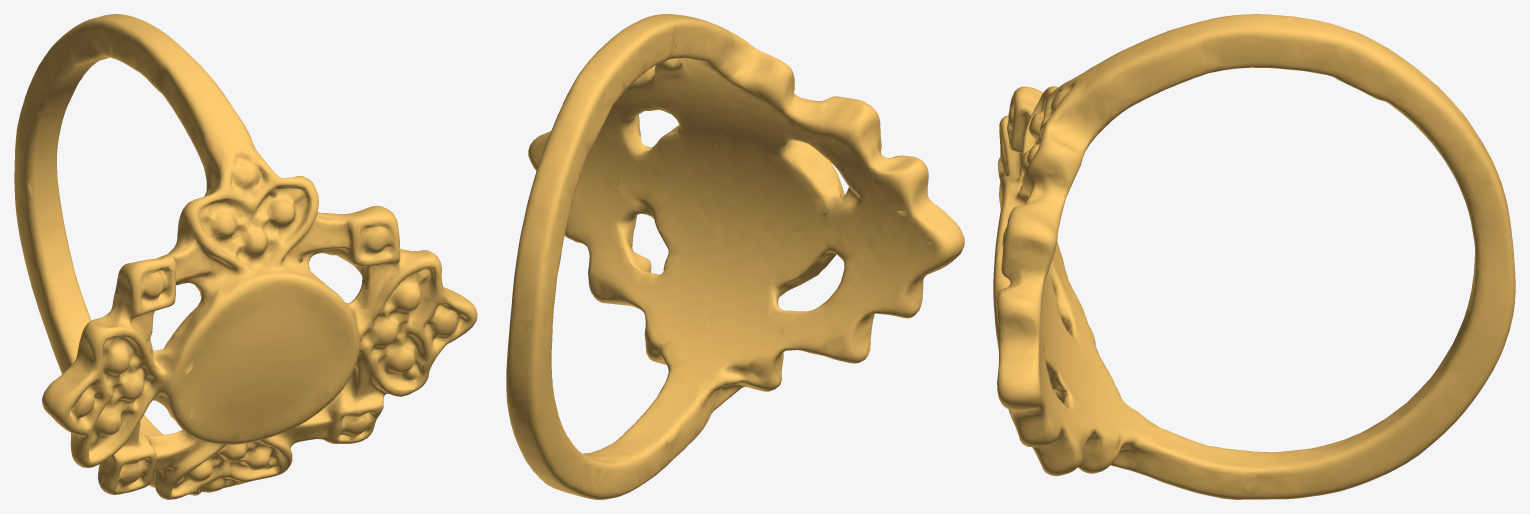
The picture shows the model from 3 angles, left to right: view 1: azimuth 30°, elevation 25°; view 2: azimuth 150°, elevation 25°; view 3: azimuth 270°, elevation 25°; orthographic projection. The views are drawn at different scales.
Parts seen in each view (by area): view 1: 05; view 2: 05; view 3: 05.
Boxes of the visible parts, x1,y1,x2,y2 form: 05: [14, 14, 477, 499]; 05: [506, 14, 964, 499]; 05: [993, 14, 1515, 499].
Bounding box in the file's own units: 0.0713 × 0.0706 × 0.0702.
